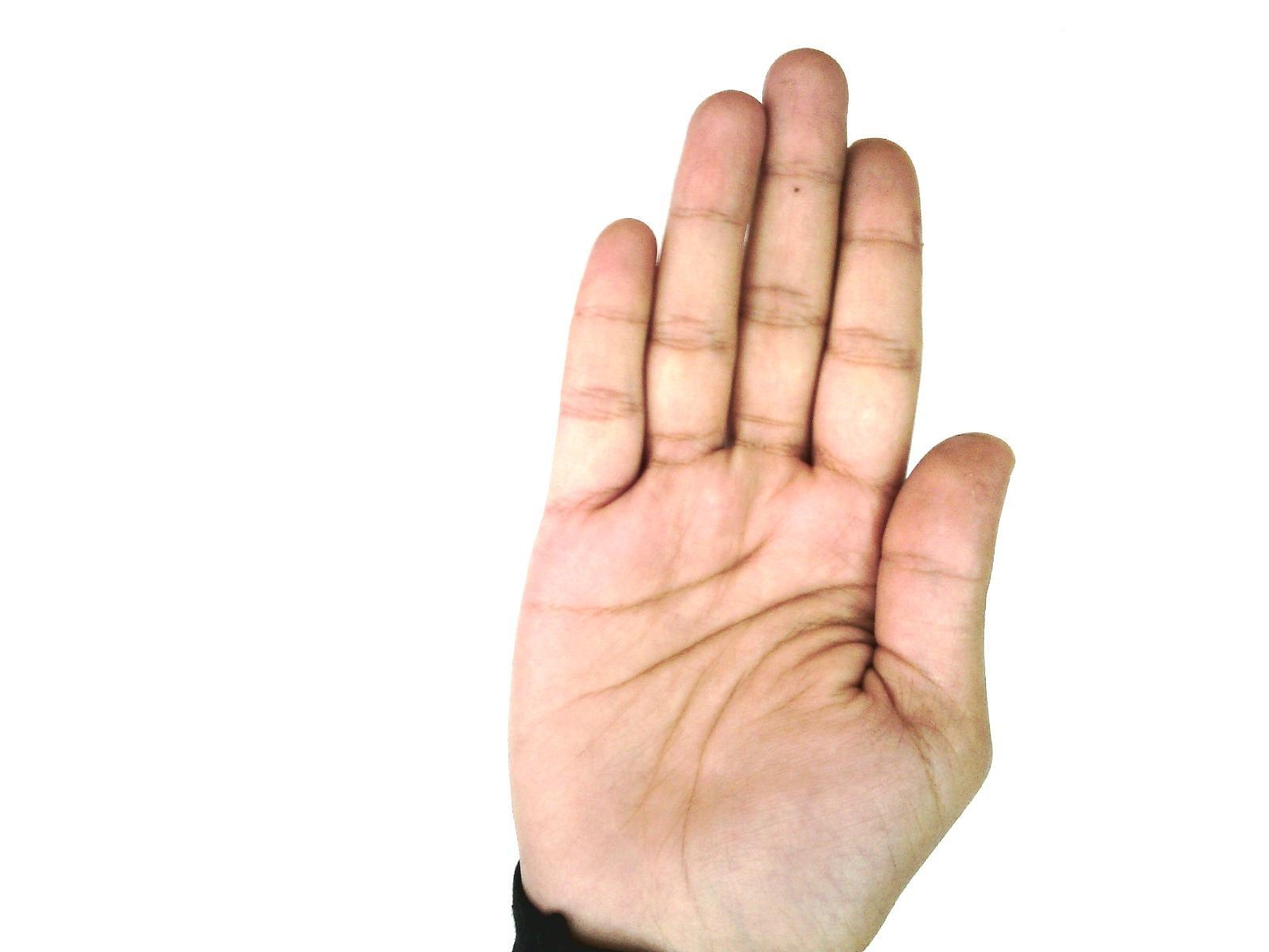open_palm: (504, 47, 1018, 950)
